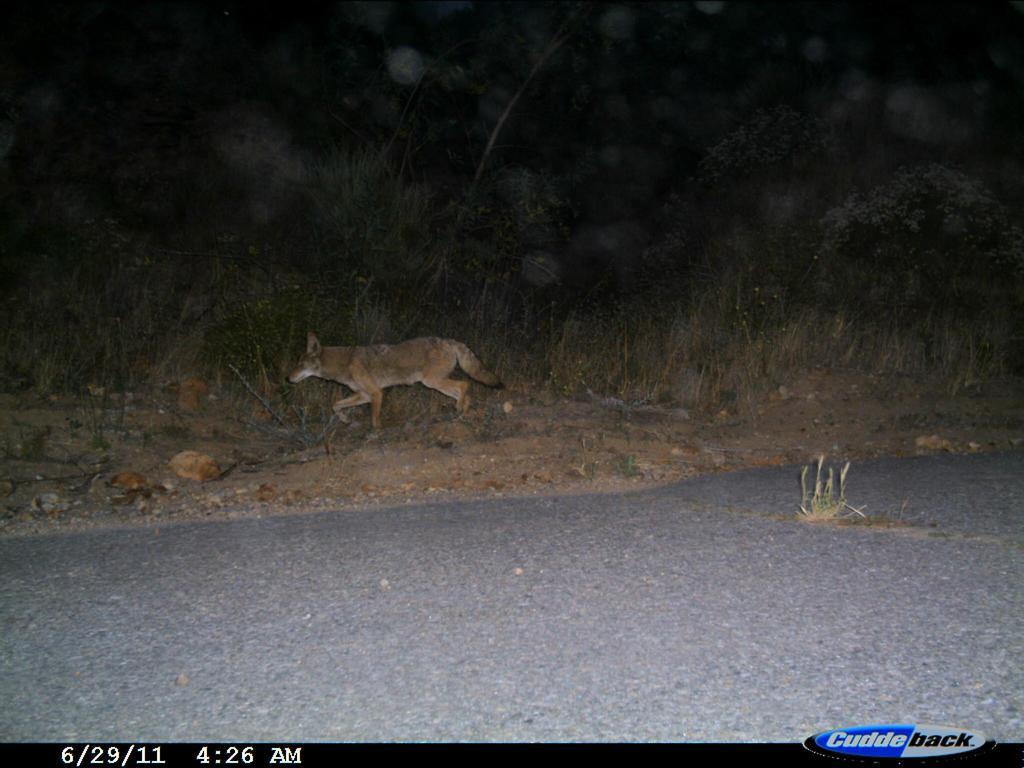coyote: (281, 313, 516, 445)
